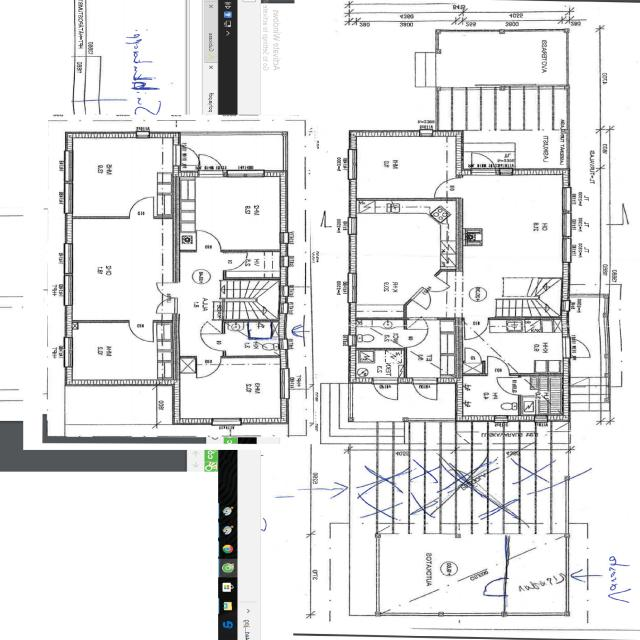door: (410, 287, 439, 310), (422, 275, 451, 298), (563, 338, 595, 358), (199, 151, 223, 177), (374, 378, 398, 403), (472, 149, 495, 175), (432, 178, 463, 197), (173, 146, 204, 165), (414, 378, 437, 403), (196, 229, 221, 252), (197, 356, 221, 378), (130, 320, 154, 342), (130, 197, 154, 219), (465, 317, 488, 339), (482, 578, 508, 595), (404, 329, 428, 347), (498, 377, 522, 395), (488, 356, 509, 376), (154, 298, 180, 314), (223, 253, 247, 270), (202, 334, 225, 351), (154, 283, 180, 298), (466, 347, 482, 363)
